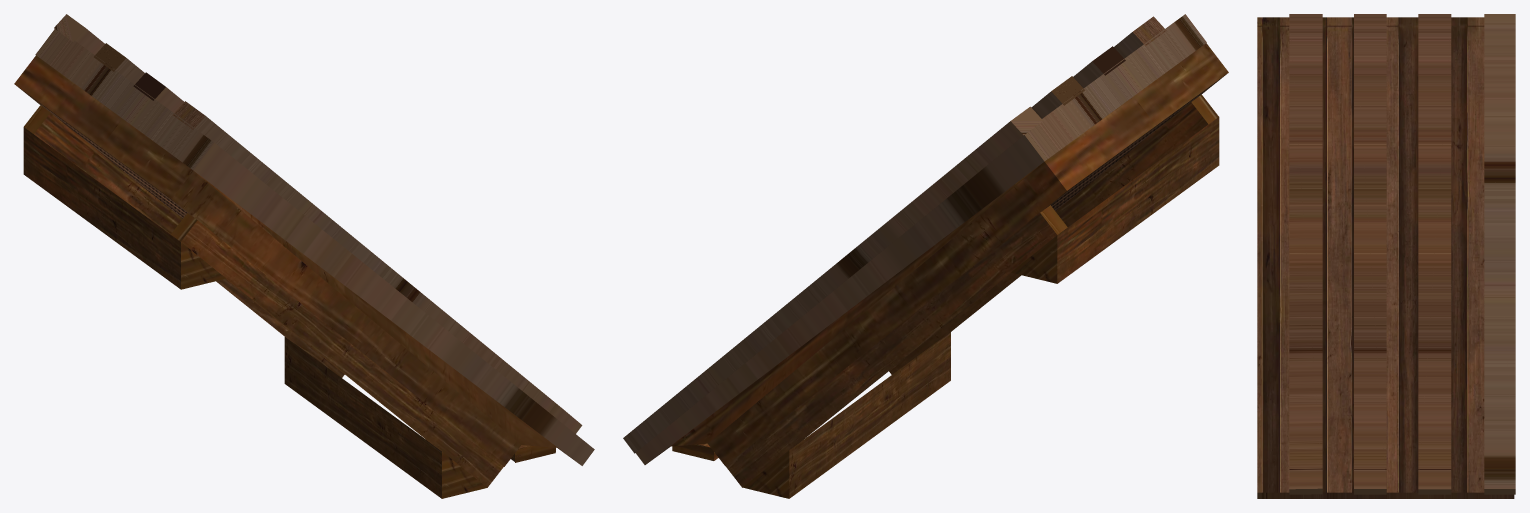
3 views of the same model, side by side, from view 1: azimuth 30°, elevation 25°; view 2: azimuth 150°, elevation 25°; view 3: azimuth 270°, elevation 25° (orthographic). The views are drawn at different scales.
Visible parts, largest first — view 1: SM_BB_T2_Roof_Med_LOD0; view 2: SM_BB_T2_Roof_Med_LOD0; view 3: SM_BB_T2_Roof_Med_LOD0.
Part boxes in pixels (x1,y1,x2,y2): SM_BB_T2_Roof_Med_LOD0: (14, 14, 594, 498); SM_BB_T2_Roof_Med_LOD0: (623, 14, 1228, 498); SM_BB_T2_Roof_Med_LOD0: (1257, 14, 1515, 498).
Size of the model in its own units: 2.37 by 2.22 by 1.51.
2 materials, 2 textured.
